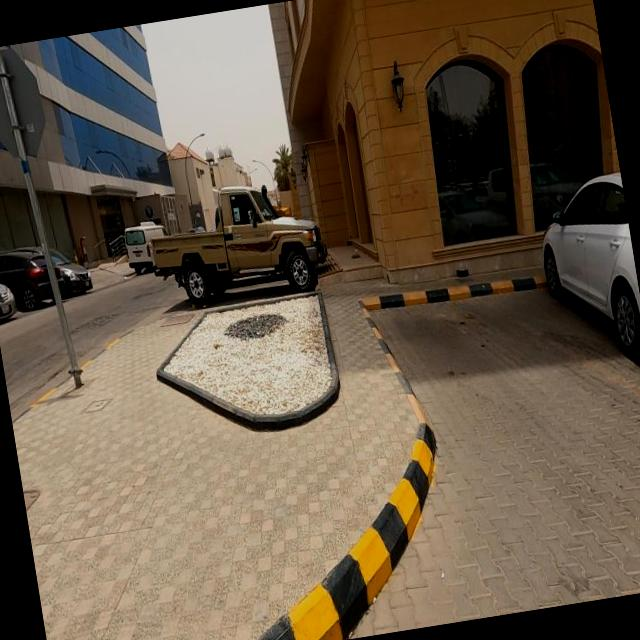debris: (428, 238, 492, 308), (332, 230, 380, 284)
